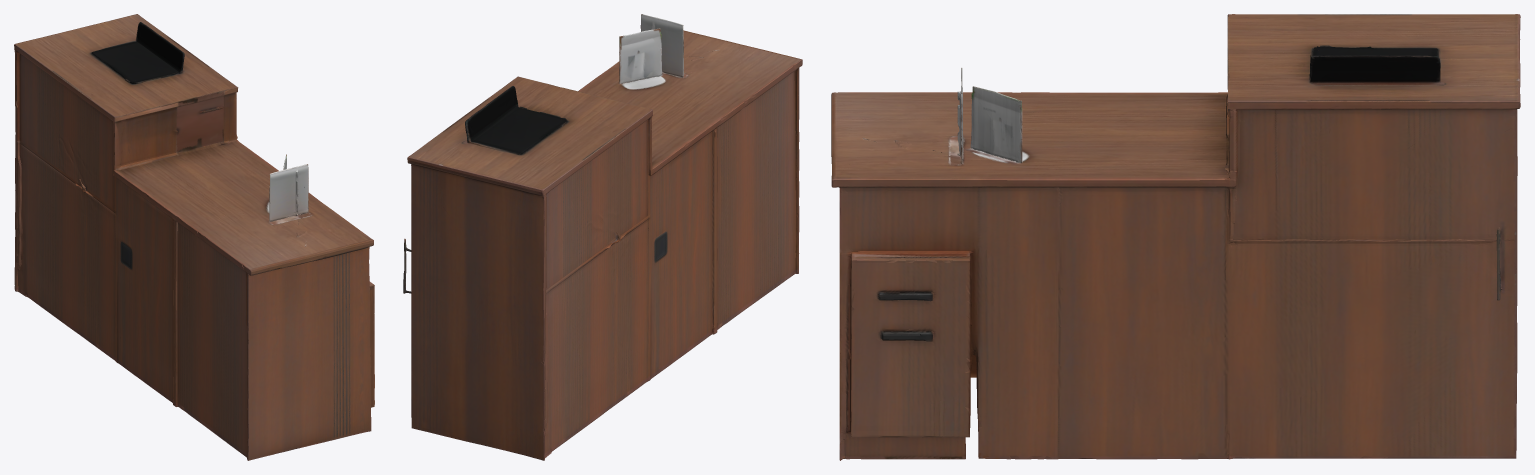
Rendered from CargoTable.fbx.
3 renders of one model, left to right at view 1: azimuth 30°, elevation 25°; view 2: azimuth 150°, elevation 25°; view 3: azimuth 270°, elevation 25°, orthographic. The views are drawn at different scales.
Visible parts, largest first — view 1: temp; view 2: temp; view 3: temp.
Boxes of the visible parts, x1=… form: temp: x1=14, y1=14, x2=374, y2=460; temp: x1=403, y1=14, x2=802, y2=460; temp: x1=831, y1=14, x2=1520, y2=460.
Bounding box in the file's own units: 65.99 × 124 × 200.
Materials: 1 (1 with a texture image).
